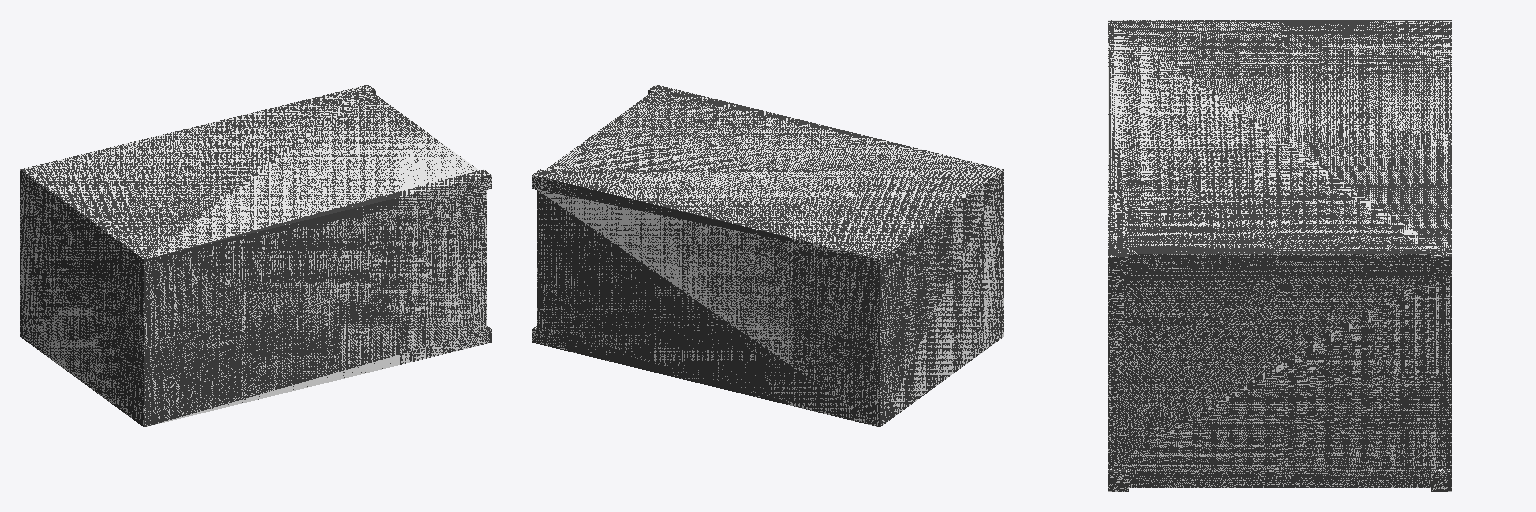
robot.urdf — right-pull-door:
<?xml version="1.0" ?>
<robot name="right-pull-door">
	<link name="base"/>
	<link name="link_0">
		<visual name="out-frame">
			<origin xyz="0 0 0"/>
			<geometry>
				<mesh filename="texture_dae/frame.dae" scale="0.6 0.6 0.6"/>
			</geometry>
		</visual>
		<collision>
			<origin xyz="0 0 0"/>
			<geometry>
				<mesh filename="texture_dae/frame.dae" scale="0.6 0.6 0.6"/>
			</geometry>
		</collision>
	</link>
	<joint name="joint_0" type="fixed">
		<origin rpy="1.570796326794897 0 -1.570796326794897" xyz="0 0 0"/>
		<child link="link_0"/>
		<parent link="base"/>
	</joint>
	<link name="link_1">
		<visual name="surf-board">
			<origin xyz="0.2562980756163597 0 0"/>
			<geometry>
				<mesh filename="texture_dae/board.dae" scale="0.6 0.6 0.6"/>
			</geometry>
		</visual>
		<collision>
			<origin xyz="0.2562980756163597 0 0"/>
			<geometry>
				<mesh filename="texture_dae/board.dae" scale="0.6 0.6 0.6"/>
			</geometry>
		</collision>
	</link>
	<joint name="joint_1" type="revolute">
		<origin xyz="-0.2562980756163597 0 0"/>
		<axis xyz="0 -1 0"/>
		<child link="link_1"/>
		<parent link="link_0"/>
		<limit lower="0" upper="1.5079644737231006"/>
	</joint>
	<link name="link_2">
		<visual name="handle">
			<origin xyz="0 0 0"/>
			<geometry>
				<mesh filename="texture_dae/9961217.dae" scale="0.1 0.1 0.1"/>
			</geometry>
		</visual>
		<collision>
			<origin xyz="0 0 0"/>
			<geometry>
				<mesh filename="texture_dae/9961217.dae" scale="0.1 0.1 0.1"/>
			</geometry>
		</collision>
	</link>
	<joint name="joint_2" type="revolute">
		<origin xyz="0.2562980756163597 0 0.015105613002723682"/>
		<child link="link_2"/>
		<parent link="link_1"/>
		<axis xyz="0 0 1"/>
		<limit lower="0" upper="1.5079644737231006"/>
	</joint>
</robot>

--- What the picture shows (computed from the rendered views, not written in the file) ---
3 views of the same robot in one strip: view 1: azimuth 30°, elevation 25°; view 2: azimuth 150°, elevation 25°; view 3: azimuth 270°, elevation 25° (orthographic).
Robot: right-pull-door — 4 links, 3 joints (2 revolute, 1 fixed); root link base; default pose: all joints at 0.
Links seen in each view (by area): view 1: link_0; view 2: link_0; view 3: link_0.
Link boxes in pixels (x1,y1,x2,y2): link_0: (20,85,491,426); link_0: (532,85,1003,426); link_0: (1108,20,1451,491).
Size in the robot's own frame: 0.9518 by 0.5857 by 0.4649 metres.
3 mesh visuals loaded from 3 distinct referenced files (3 Collada DAE).
